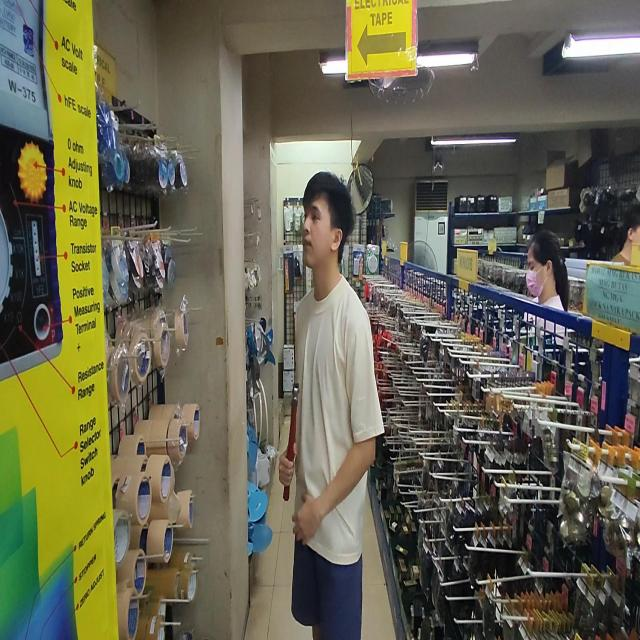hammer: (283, 382, 300, 501)
